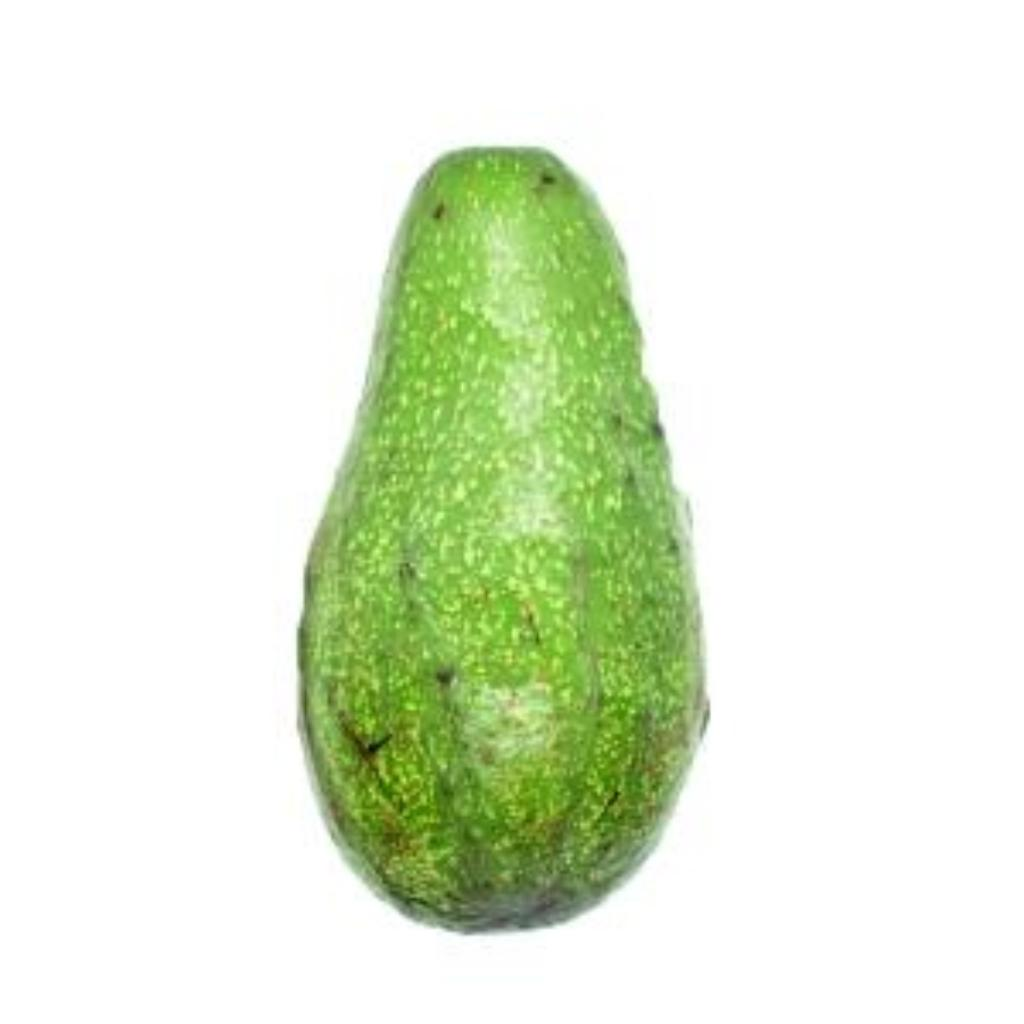cercospora_spot: (283, 132, 727, 930)
